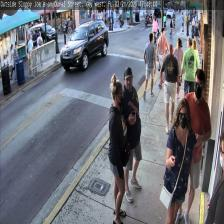person: (173, 68, 211, 224), (163, 98, 194, 224), (120, 66, 142, 202), (108, 73, 126, 224), (204, 129, 224, 220)
